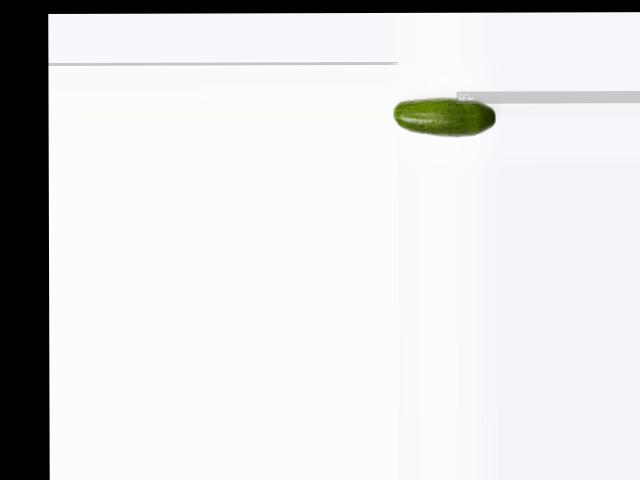cucumber: (392, 97, 497, 137)
